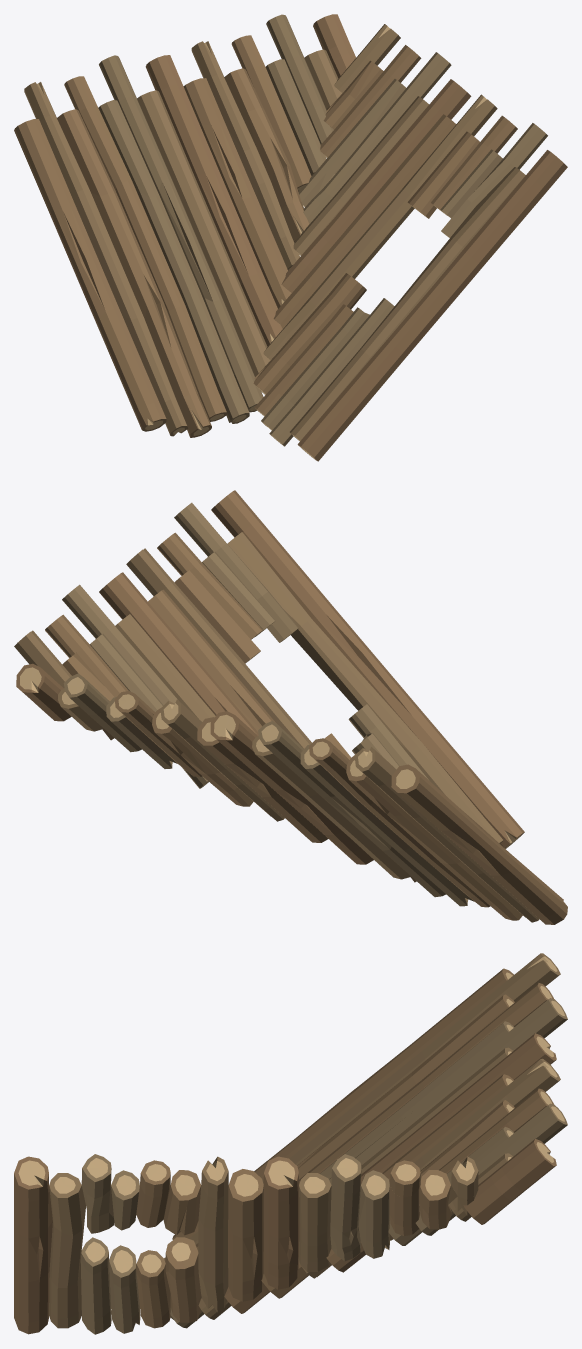
File: rpgpp_ag_roof_01_6x3x3_corner_01_chimney_01.fbx
The picture shows the model from 3 angles, top to bottom: view 1: azimuth 30°, elevation 25°; view 2: azimuth 150°, elevation 25°; view 3: azimuth 270°, elevation 25°; orthographic projection. The views are drawn at different scales.
Visible parts, largest first — view 1: rpgpp_ag_roof_01_6x3x3_corner_01_chimney_01; view 2: rpgpp_ag_roof_01_6x3x3_corner_01_chimney_01; view 3: rpgpp_ag_roof_01_6x3x3_corner_01_chimney_01.
Boxes of the visible parts, x1,y1,x2,y2 form: rpgpp_ag_roof_01_6x3x3_corner_01_chimney_01: [14, 14, 567, 461]; rpgpp_ag_roof_01_6x3x3_corner_01_chimney_01: [14, 490, 567, 924]; rpgpp_ag_roof_01_6x3x3_corner_01_chimney_01: [14, 953, 567, 1334].
Size of the model in its own units: 6.65 by 4.49 by 6.65.
